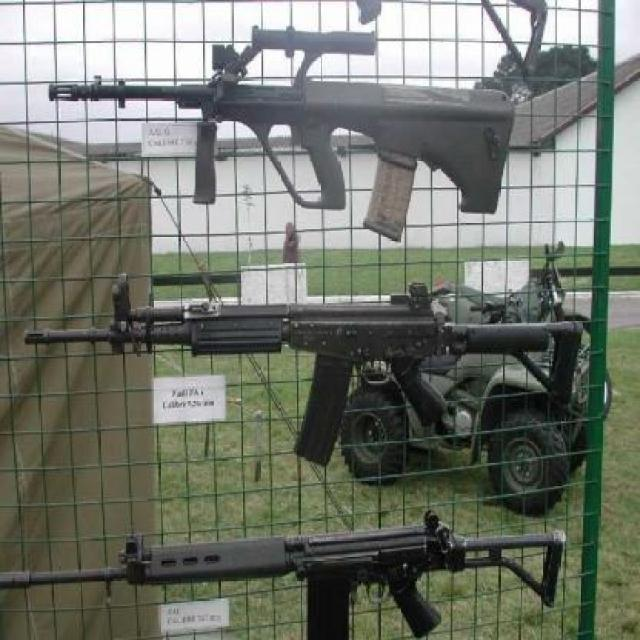weapon: (28, 279, 583, 467), (41, 21, 512, 242), (0, 518, 565, 640)
